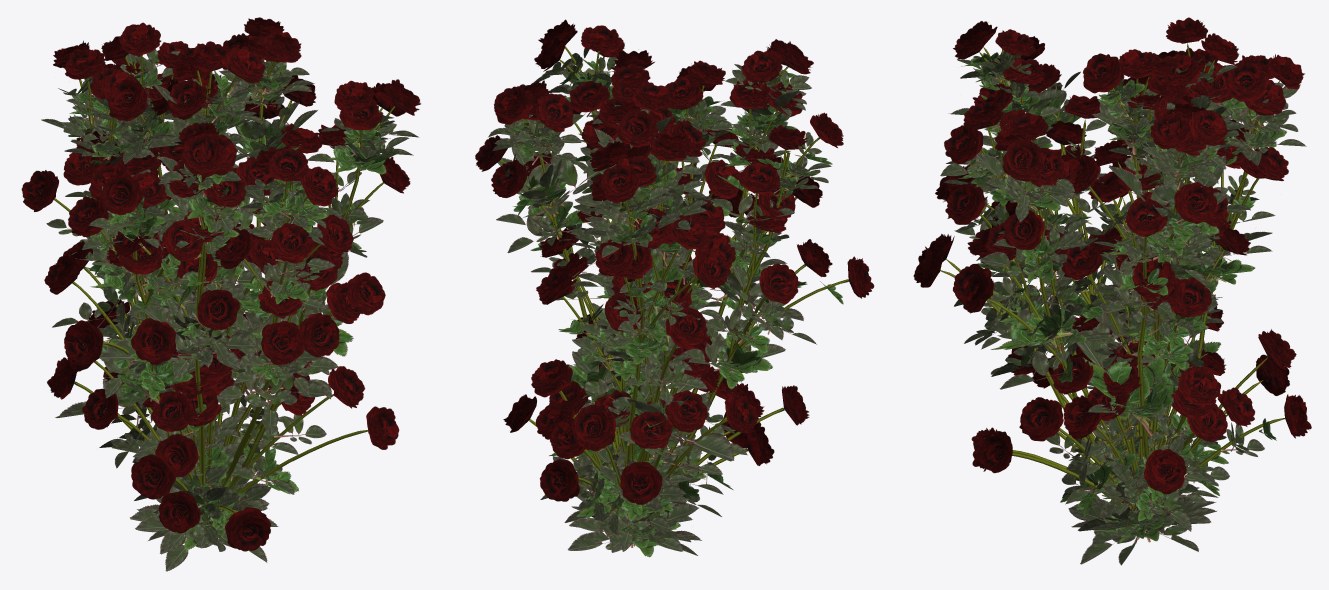
The picture shows the model from 3 angles, left to right: view 1: azimuth 30°, elevation 25°; view 2: azimuth 150°, elevation 25°; view 3: azimuth 270°, elevation 25°; orthographic projection. The views are drawn at different scales.
Parts seen in each view (by area): view 1: Object_2, Object_3, Object_4; view 2: Object_2, Object_3, Object_4; view 3: Object_3, Object_2, Object_4.
Part boxes in pixels (bbox=[...]): Object_2: bbox=[21, 17, 420, 551]; Object_3: bbox=[41, 49, 418, 571]; Object_4: bbox=[54, 55, 395, 514]; Object_2: bbox=[475, 19, 874, 504]; Object_3: bbox=[488, 48, 843, 557]; Object_4: bbox=[500, 46, 848, 510]; Object_3: bbox=[940, 51, 1306, 565]; Object_2: bbox=[913, 17, 1311, 494]; Object_4: bbox=[940, 43, 1284, 512].
Size of the model in its own units: 1.47 by 2.03 by 1.46.
Materials: 3 (3 with a texture image).
